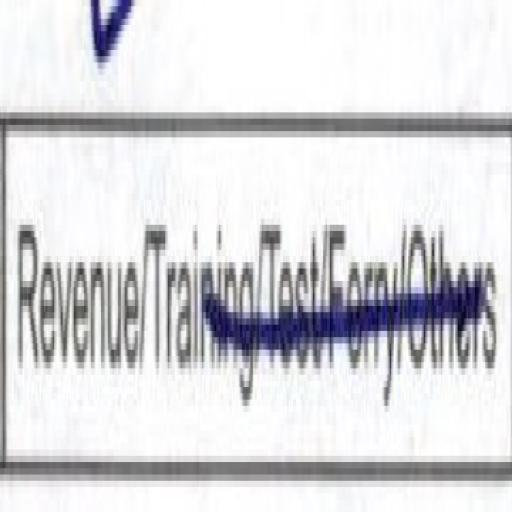check: (1, 4, 141, 476)
